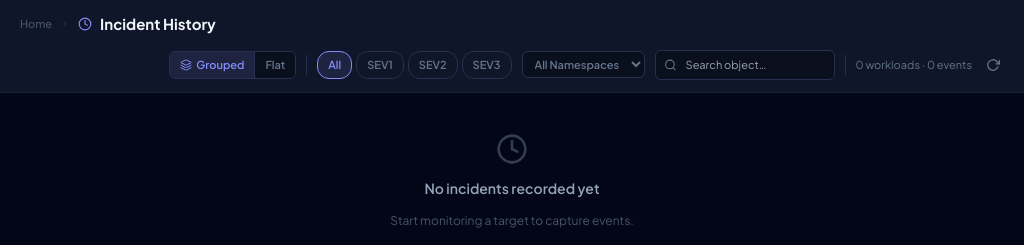
Scenario: History › shows Clear button when a filter is active
The width and height of the screenshot is (1024, 245).
Expected: the text "Clear" is not shown
Click the button "SEV2" at (433, 65), box [408,51,458,79]
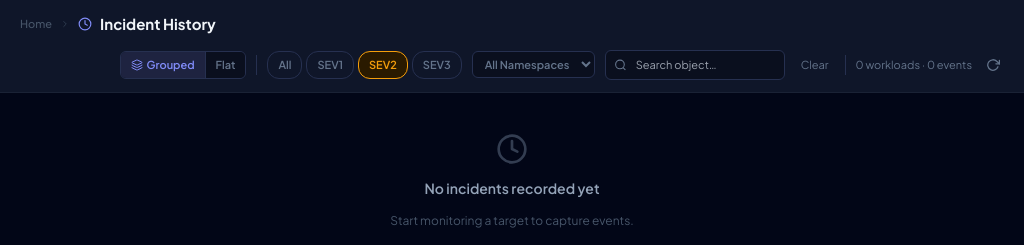
Result: the button "Clear" is shown at [795,54,835,76]
